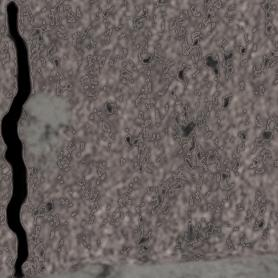brick: (0, 0, 277, 274), (0, 132, 16, 273)
crack: (0, 1, 31, 276)
